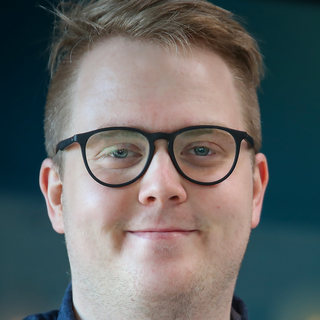eye: (92, 140, 145, 172), (174, 138, 225, 171)
